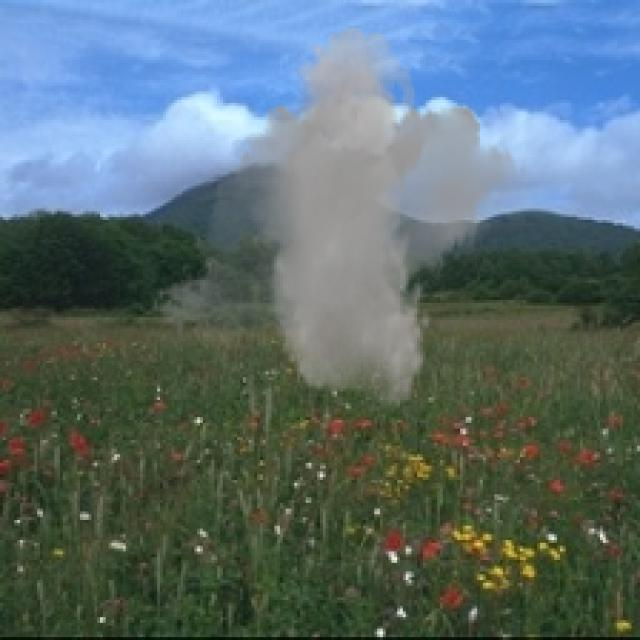Smoke: (148, 26, 528, 408)
